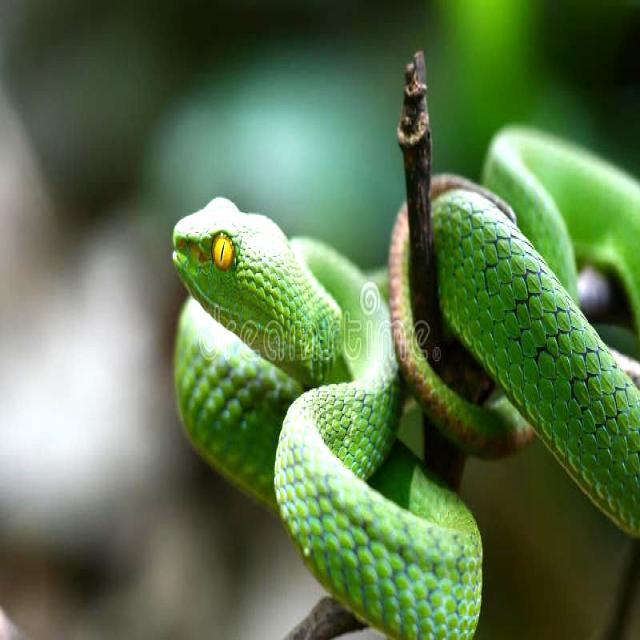Trimeresurus macrops: (173, 130, 639, 638)
snake: (173, 130, 639, 638)
